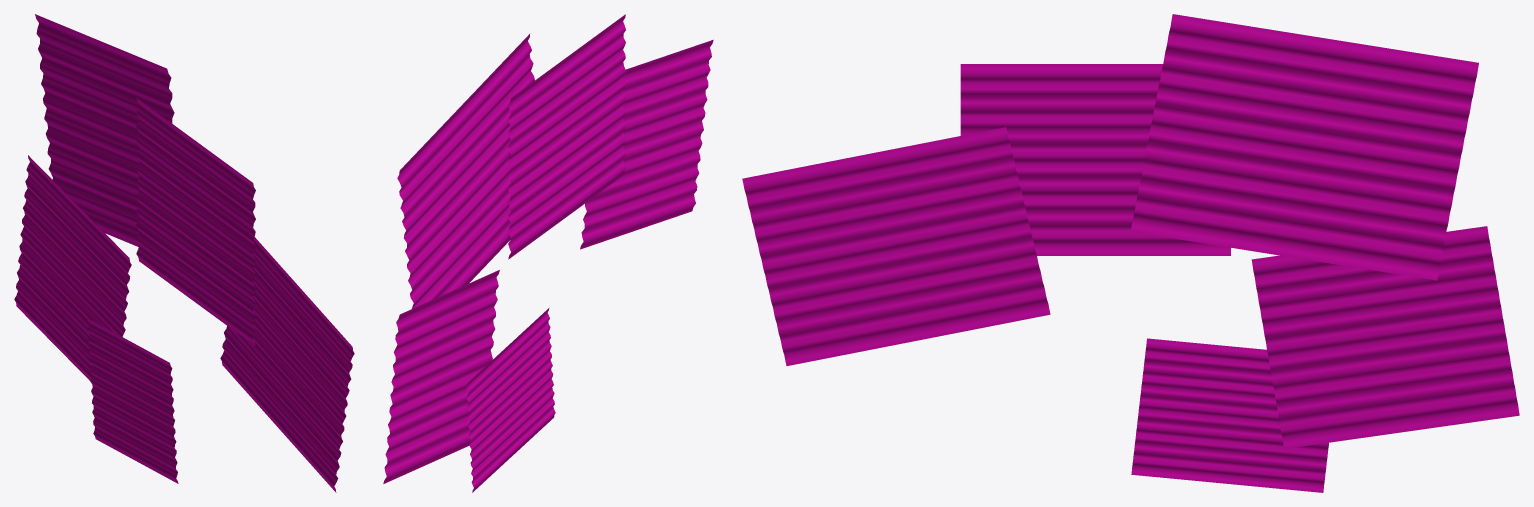
Rendered from WallLong_sheets.fbx.
3 views of the same model, side by side, from view 1: azimuth 30°, elevation 25°; view 2: azimuth 150°, elevation 25°; view 3: azimuth 270°, elevation 25° (orthographic). The views are drawn at different scales.
Visible parts, largest first — view 1: WallLong_Sheets; view 2: WallLong_Sheets; view 3: WallLong_Sheets.
Part boxes in pixels (left/top/right/bottom): WallLong_Sheets: left=14, top=14, right=354, bottom=492; WallLong_Sheets: left=383, top=14, right=713, bottom=492; WallLong_Sheets: left=742, top=14, right=1519, bottom=492.
Bounding box in the file's own units: 20.62 × 693 × 1012.
